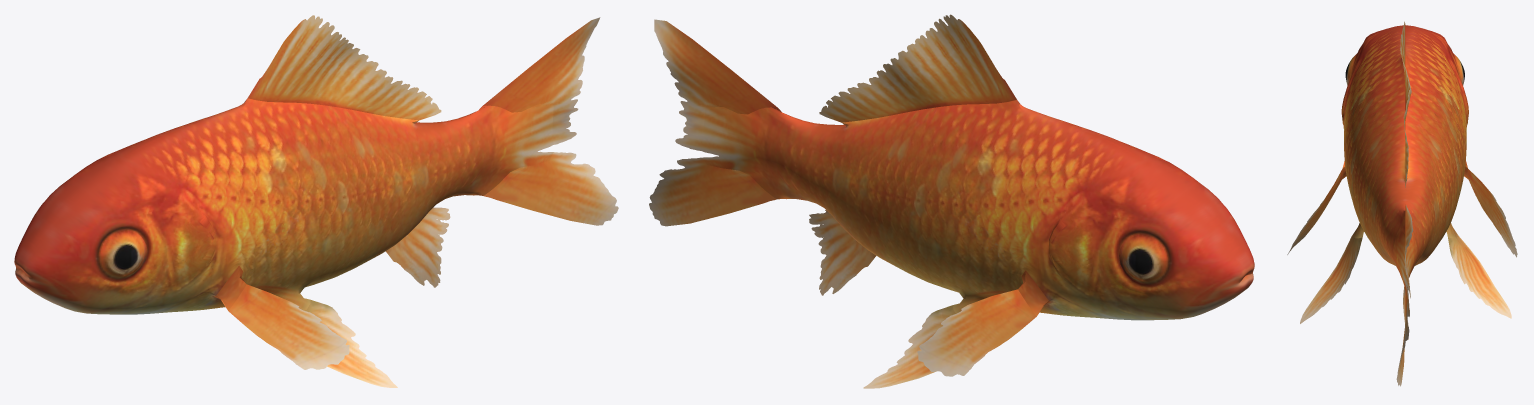
Rendered from pond_koi.glb.
3 renders of one model, left to right at view 1: azimuth 30°, elevation 25°; view 2: azimuth 150°, elevation 25°; view 3: azimuth 270°, elevation 25°, orthographic. The views are drawn at different scales.
Parts seen in each view (by area): view 1: Poisson_d-or_1; view 2: Poisson_d-or_1; view 3: Poisson_d-or_1.
Part boxes in pixels (left/top/right/bottom): Poisson_d-or_1: left=14, top=15, right=618, bottom=387; Poisson_d-or_1: left=649, top=14, right=1254, bottom=388; Poisson_d-or_1: left=1287, top=21, right=1517, bottom=386.
Size of the model in its own units: 0.0613 by 0.0334 by 0.0242.
Materials: 1 (1 with a texture image).
